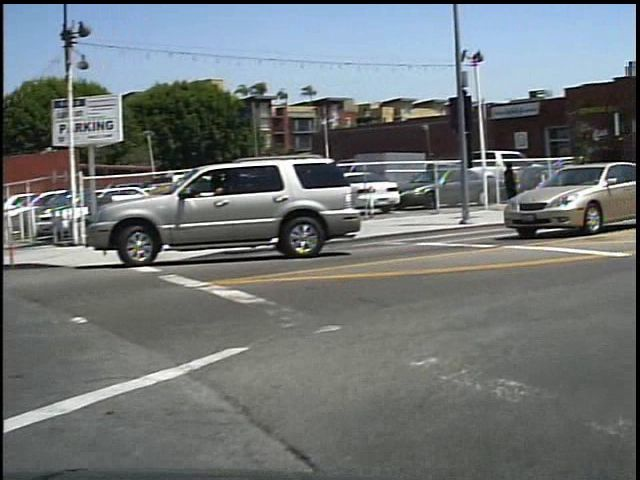person: (508, 158, 533, 215)
